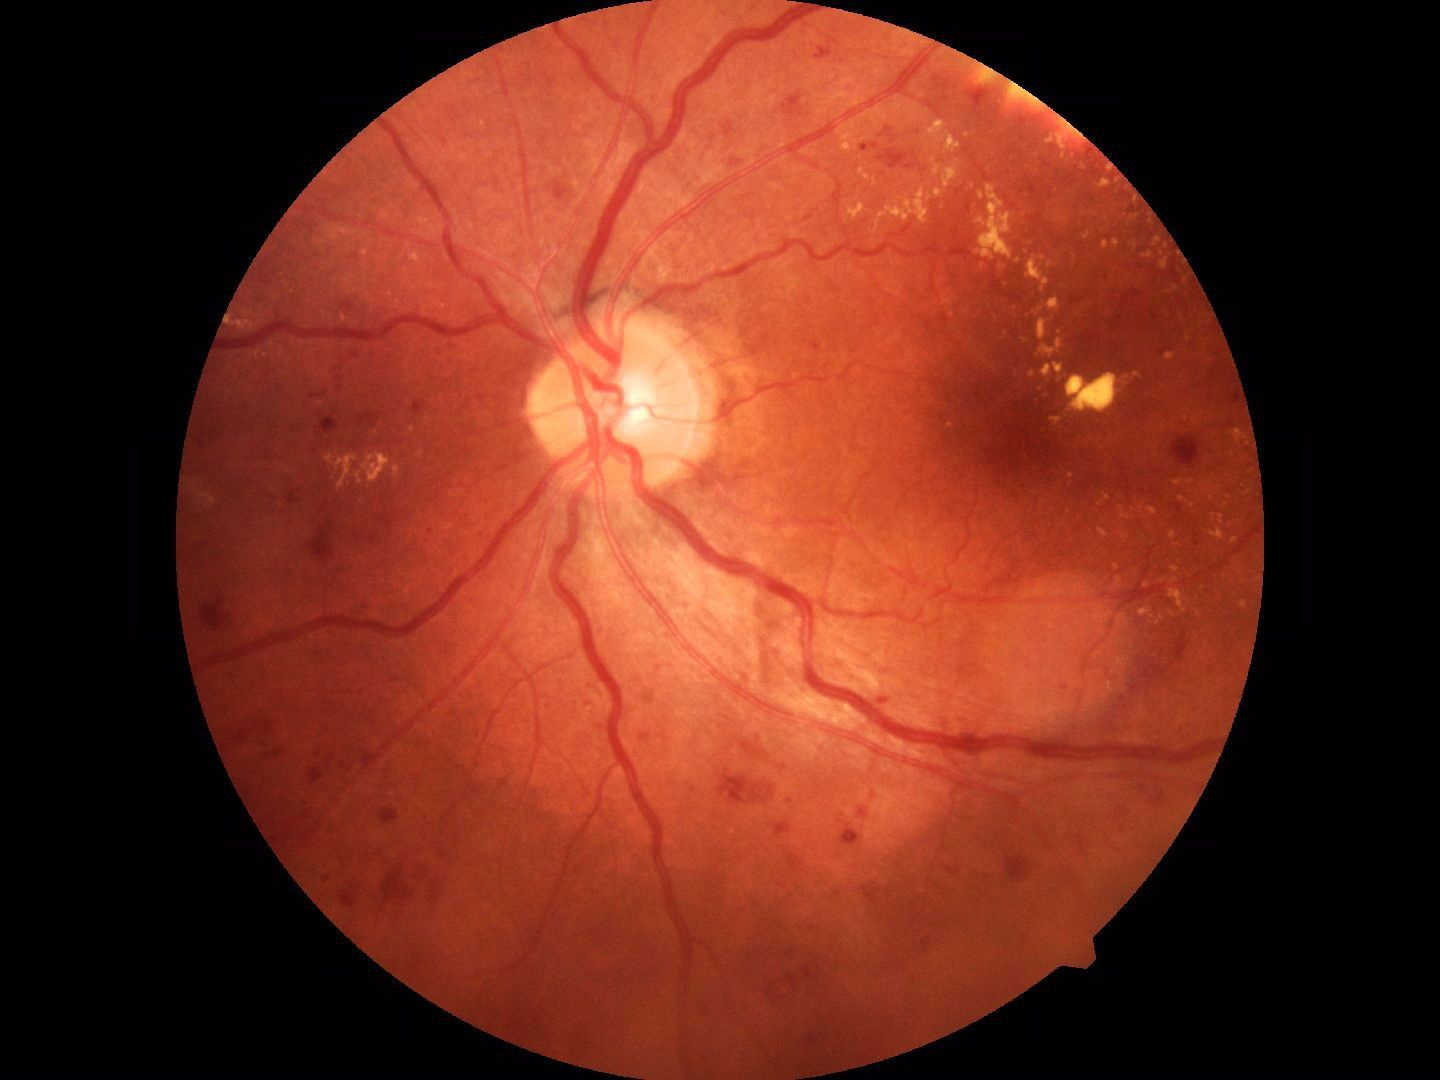Exudates: (1040, 326, 1121, 417), (327, 427, 401, 506), (966, 193, 1034, 261)
Microaneurysms: (378, 854, 435, 908), (721, 773, 782, 819)
Optic-Disc: (539, 313, 704, 492)
Venules: (748, 554, 940, 742)
